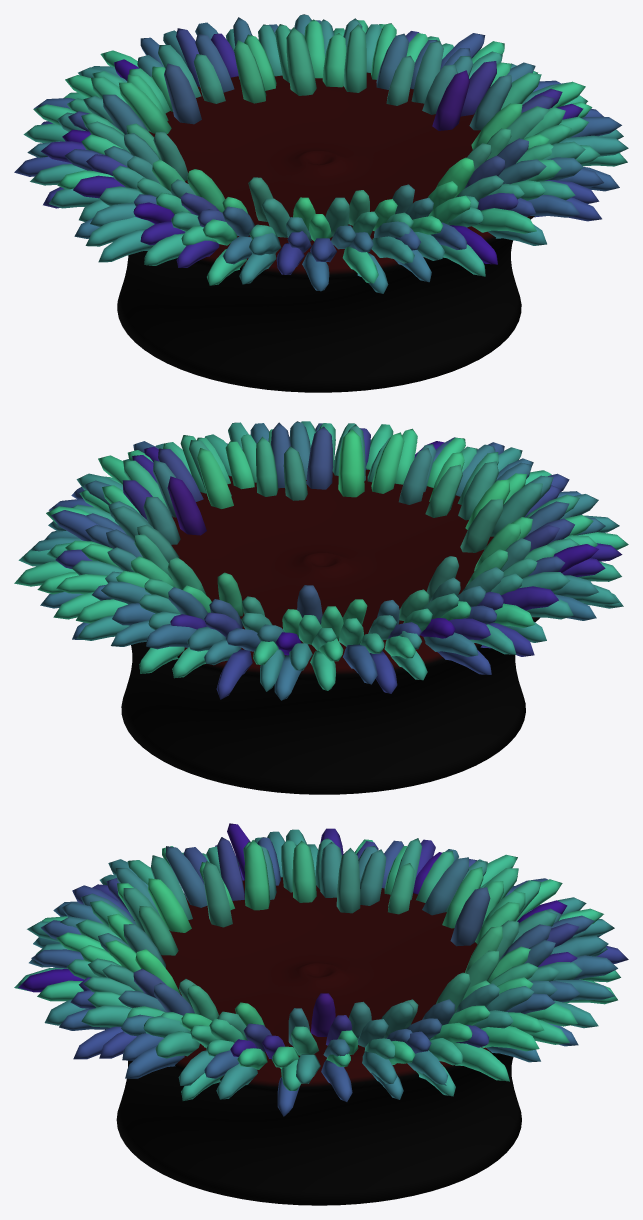
The model's file is anemone_giant_green.glb.
3 renders of one model, top to bottom at view 1: azimuth 30°, elevation 25°; view 2: azimuth 150°, elevation 25°; view 3: azimuth 270°, elevation 25°, orthographic.
Visible parts, largest first — view 1: anemone_giant_green; view 2: anemone_giant_green; view 3: anemone_giant_green.
Part boxes in pixels (x1,y1,x2,y2): anemone_giant_green: [14, 14, 628, 392]; anemone_giant_green: [14, 421, 628, 794]; anemone_giant_green: [14, 823, 628, 1205].
Bounding box in the file's own units: 0.2383 × 0.0854 × 0.2366.
